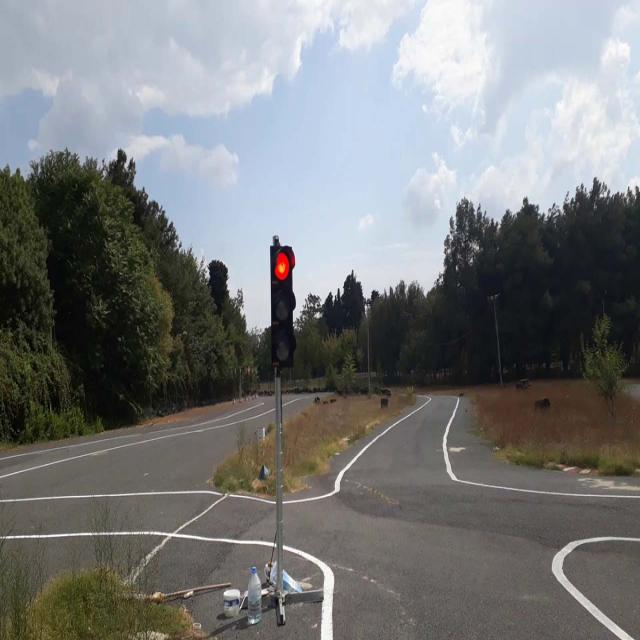kirmizi: (270, 242, 294, 366)
